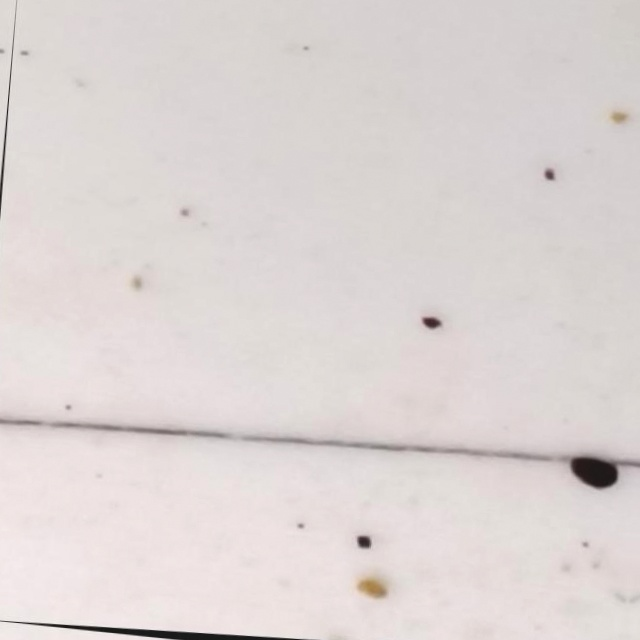varroa: (565, 454, 624, 497)
